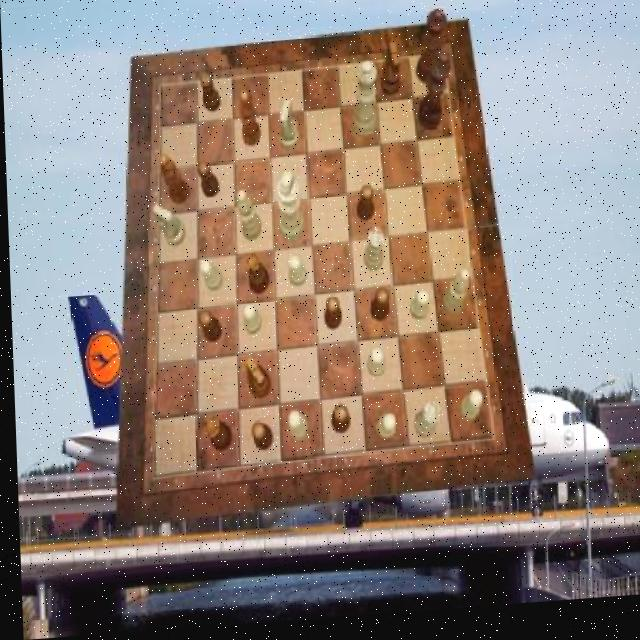bishop: (157, 156, 188, 210), (238, 93, 260, 150)
black-bishop: (413, 57, 451, 137)
black-king: (378, 47, 399, 103), (242, 359, 267, 403)
black-knight: (195, 163, 218, 200), (195, 313, 219, 346), (200, 75, 219, 115), (355, 191, 373, 228), (321, 299, 340, 334), (367, 295, 387, 328), (247, 425, 268, 455), (327, 410, 347, 438)
black-pawn: (413, 14, 448, 92)
black-queen: (199, 417, 227, 455), (242, 256, 266, 299)
black-rook: (438, 277, 467, 324), (236, 193, 260, 245)
white-bishop: (274, 175, 303, 249)
white-king: (149, 205, 183, 251), (276, 104, 298, 157)
white-knight: (456, 397, 481, 431), (197, 262, 221, 297), (406, 296, 427, 328), (239, 307, 259, 340), (284, 414, 304, 446), (362, 352, 382, 383), (286, 260, 304, 293), (373, 419, 394, 446)
white-pawn: (348, 66, 377, 144)
white-queen: (360, 233, 383, 277), (411, 408, 437, 445)
